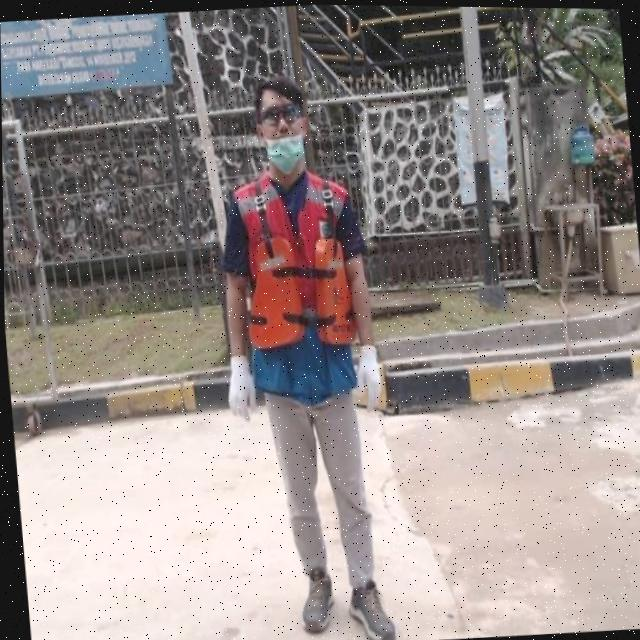goggles_on: (254, 100, 310, 128)
